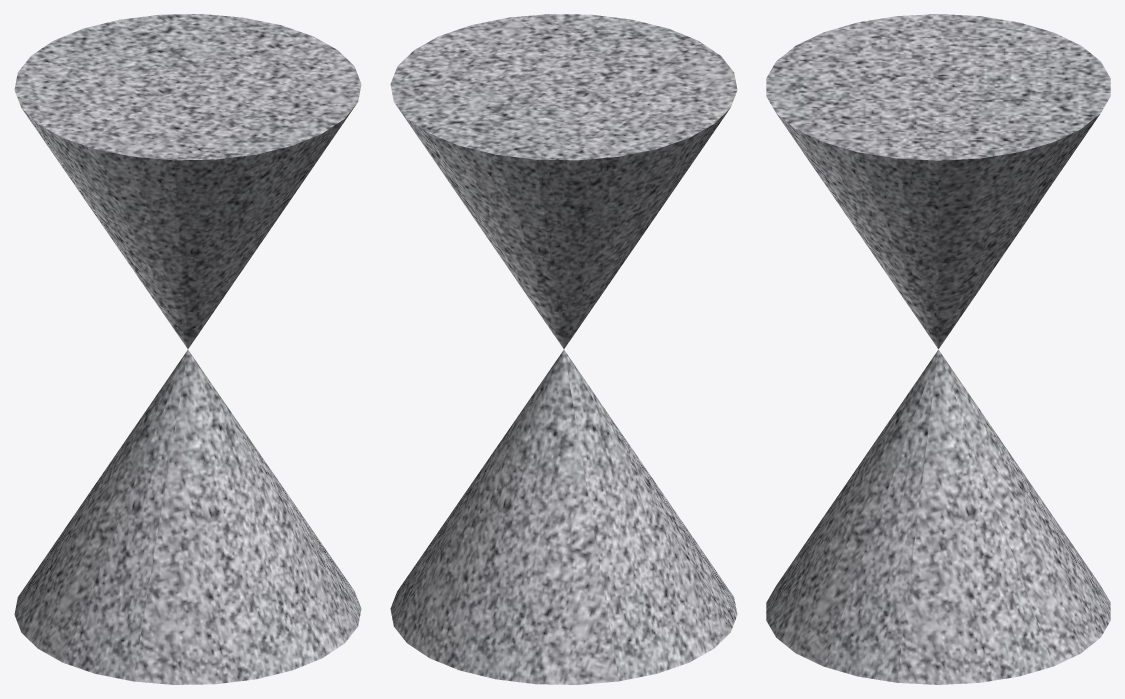
The model's file is uplink.glb.
The picture shows the model from 3 angles, left to right: view 1: azimuth 30°, elevation 25°; view 2: azimuth 150°, elevation 25°; view 3: azimuth 270°, elevation 25°; orthographic projection.
Size of the model in its own units: 0.9 by 1.5 by 0.8934.
Materials: 1 (1 with a texture image).
